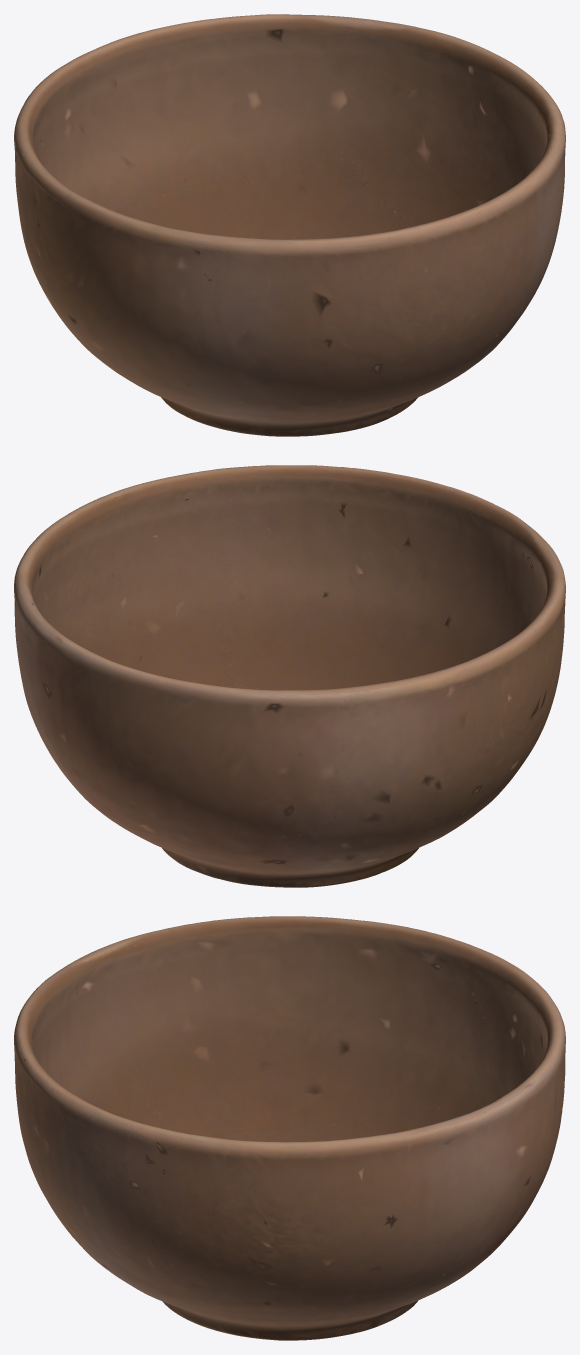
Rendered from chen.glb.
The picture shows the model from 3 angles, top to bottom: view 1: azimuth 30°, elevation 25°; view 2: azimuth 150°, elevation 25°; view 3: azimuth 270°, elevation 25°; orthographic projection.
Bounding box in the file's own units: 2 × 1.02 × 2.
Materials: 1 (1 with a texture image).
